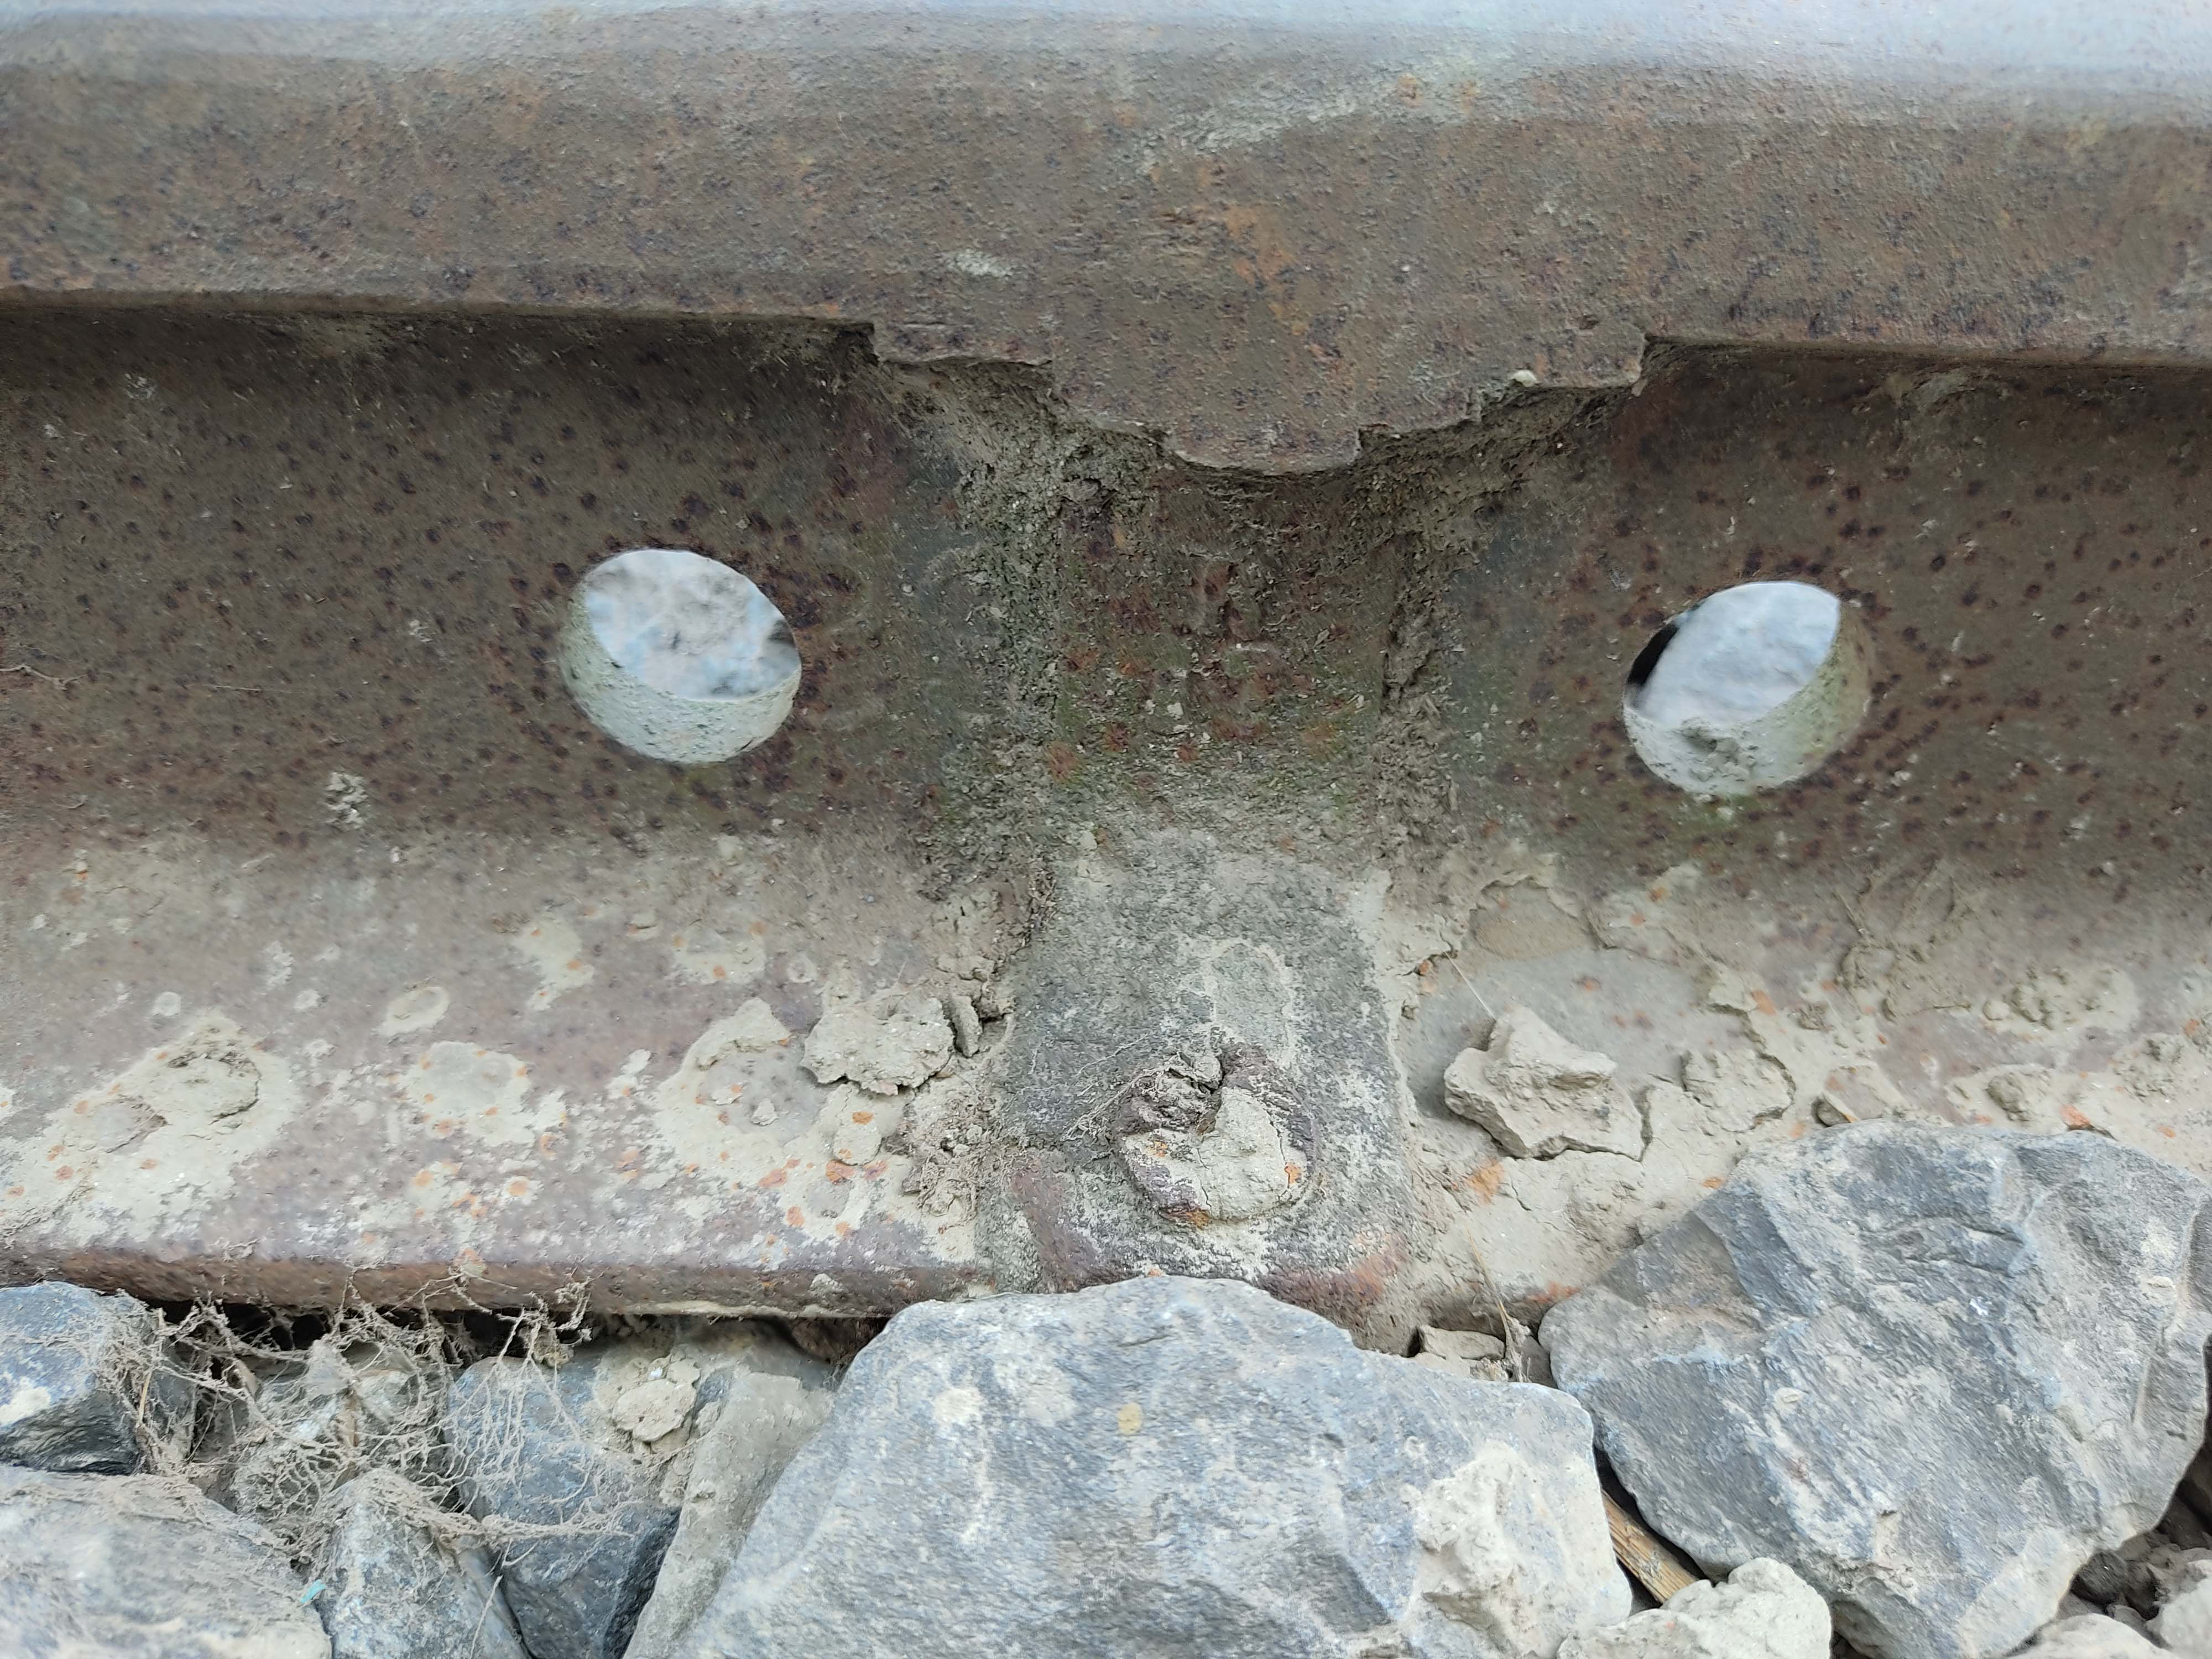error1: (488, 429, 846, 965), (1592, 521, 1949, 969)
